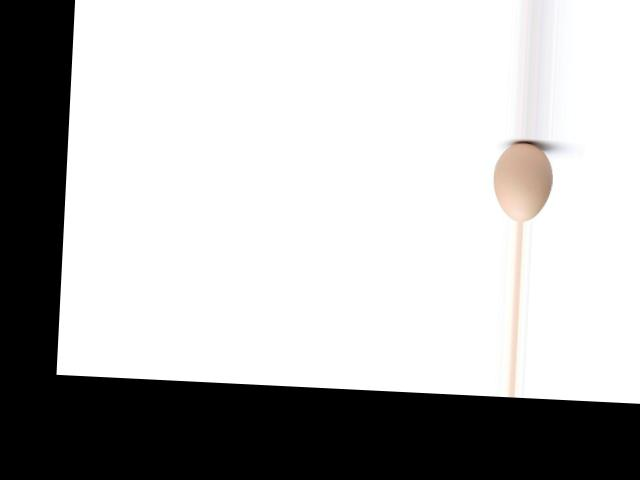egg: (491, 140, 553, 222)
